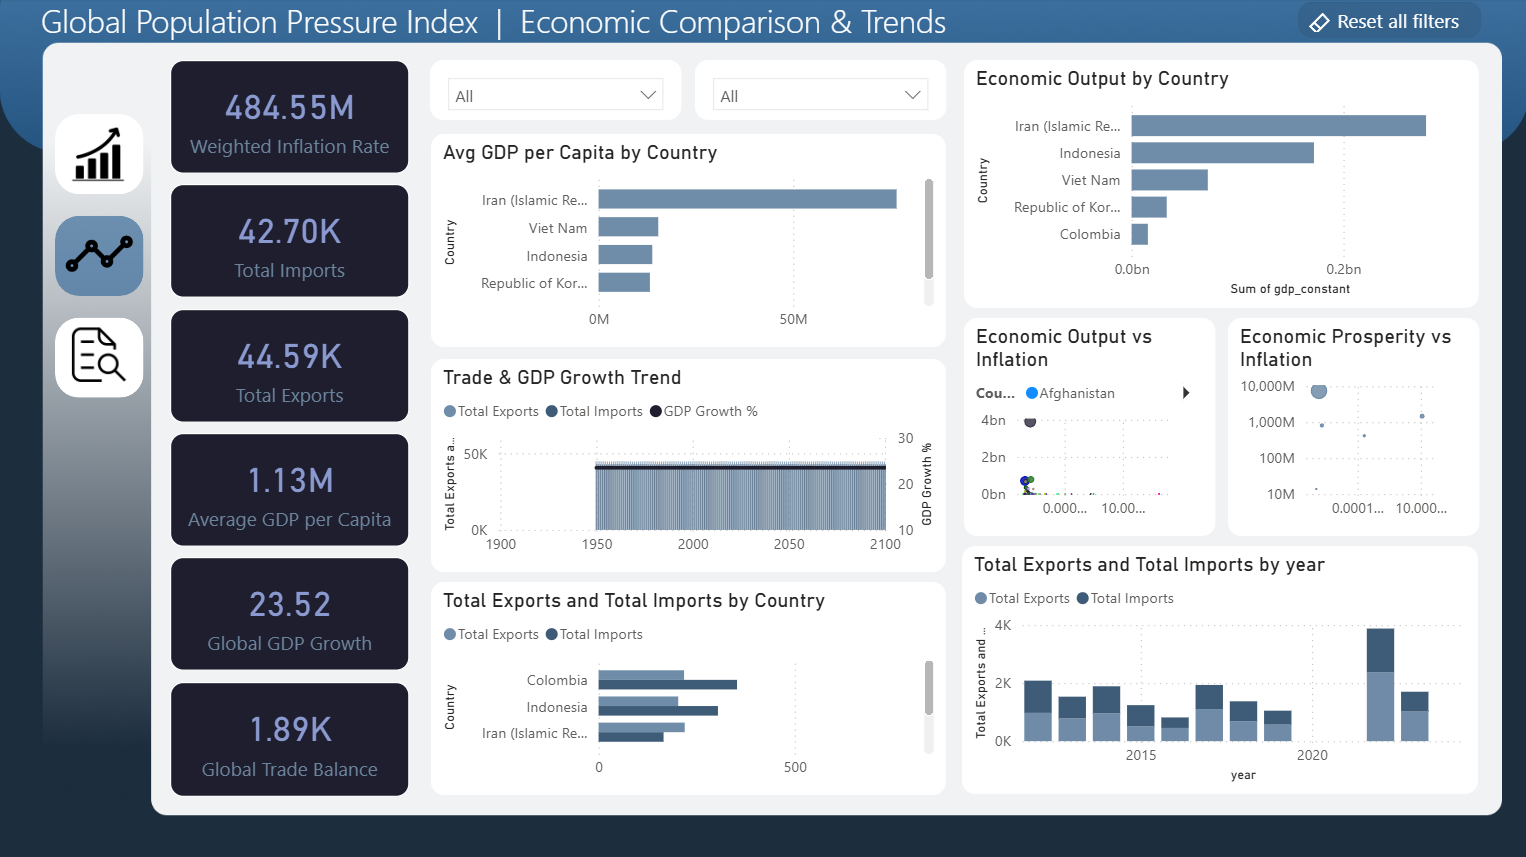

Layout of this report page (visuals, bound fields, positions):
{"tool":"powerbi","page":{"name":"Economic Comparison","canvas":[1280,720],"ordinal":1},"visuals":[{"type":"pageNavigator","box":[47.4,96.6,74.2,239.8],"z":0},{"type":"textbox","box":[36.2,0,795.3,44.9],"z":1000},{"type":"card","fields":{"Values":["Organizations_Groups.Global GDP Growth"]},"box":[144,467.2,200.1,94.9],"z":2000},{"type":"card","fields":{"Values":["Organizations_Groups.Average GDP per Capita"]},"box":[144,363.3,200,95],"z":3000},{"type":"card","fields":{"Values":["fact_economics_imf.Total Exports"]},"box":[144,259.4,200,95],"z":4000},{"type":"card","fields":{"Values":["fact_economics_imf.Total Imports"]},"box":[144,155.5,200,95],"z":5000},{"type":"card","fields":{"Values":["fact_economics_imf.Weighted Inflation %"]},"box":[144,51.8,200.1,94.9],"z":6000},{"type":"clusteredBarChart","title":"Economic Output by Country","fields":{"Category":["Master_Country.Country","fact_economics_imf.year"],"Y":["Sum(fact_economics_imf.gdp_constant)"]},"box":[806.5,51.8,430.4,207],"z":7000},{"type":"clusteredBarChart","fields":{"Category":["Master_Country.Country","fact_economics_imf.year"],"Y":["fact_economics_imf.Avg GDP per Capita"]},"box":[361.4,113.9,430,177.7],"z":8000},{"type":"clusteredBarChart","fields":{"Category":["Master_Country.Country","fact_economics_imf.year"],"Y":["fact_economics_imf.Total Exports","fact_economics_imf.Total Imports"]},"box":[361.4,488.2,430,177.7],"z":9000},{"type":"slicer","fields":{"Values":["Master_Country.Country"]},"box":[360.5,51.8,210,50],"z":10000},{"type":"image","box":[47.3,180,74.5,68.2],"z":11000},{"type":"image","box":[55.5,107.3,57.3,47.3],"z":12000},{"type":"image","box":[58.2,259.1,51.8,77.3],"z":13000},{"type":"lineStackedColumnComboChart","fields":{"Y":["fact_economics_imf.Total Exports","fact_economics_imf.Total Imports"],"Category":["fact_economics_imf.year"]},"box":[805.6,458,431.3,207],"z":14000},{"type":"scatterChart","title":"Economic Prosperity vs Inflation","fields":{"X":["fact_economics_imf.Weighted Inflation %"],"Y":["Sum(fact_economics_imf.gdp_per_capita_constant)"],"Size":["Sum(fact_economics_imf.gdp_constant)"],"Category":["Countries_Territories.Continent"]},"box":[1027.3,267.4,209.6,182],"z":15000},{"type":"lineClusteredColumnComboChart","title":"Trade & GDP Growth Trend","fields":{"Category":["dim_year.year"],"Y":["fact_economics_imf.Total Exports","fact_economics_imf.Total Imports"],"Y2":["fact_economics_imf.GDP Growth %"]},"box":[361.4,301.9,430,177.7],"z":16000},{"type":"scatterChart","title":"Economic Output vs Inflation","fields":{"X":["fact_economics_imf.Weighted Inflation %"],"Y":["Sum(fact_economics_imf.gdp_per_capita_constant)"],"Size":["Sum(fact_economics_imf.gdp_constant)"],"Category":["Countries_Territories.Continent"],"Series":["Master_Country.Country"]},"box":[806.5,267.4,209.6,182],"z":17000},{"type":"card","fields":{"Values":["Organizations_Groups.Trade Balance"]},"box":[144,571,200.1,95.7],"z":18000},{"type":"actionButton","box":[1086.2,3.3,152.9,30.4],"z":19000},{"type":"slicer","fields":{"Values":["Countries_Territories.Continent"]},"box":[582.2,51.8,209.6,50],"z":20000}]}

Visuals, with their boxes in screenshot pixels (x1, y1, x2, y2), scaled from the page's 1280x720 canvas onto the 1526x857 screenshot:
pageNavigator: [x1=57, y1=115, x2=145, y2=400]
textbox: [x1=43, y1=0, x2=991, y2=53]
card - Organizations_Groups.Global GDP Growth: [x1=172, y1=556, x2=410, y2=669]
card - Organizations_Groups.Average GDP per Capita: [x1=172, y1=432, x2=410, y2=546]
card - fact_economics_imf.Total Exports: [x1=172, y1=309, x2=410, y2=422]
card - fact_economics_imf.Total Imports: [x1=172, y1=185, x2=410, y2=298]
card - fact_economics_imf.Weighted Inflation %: [x1=172, y1=62, x2=410, y2=175]
"Economic Output by Country" clusteredBarChart: [x1=961, y1=62, x2=1475, y2=308]
clusteredBarChart - Master_Country.Country x fact_economics_imf.year: [x1=431, y1=136, x2=943, y2=347]
clusteredBarChart - Master_Country.Country x fact_economics_imf.year: [x1=431, y1=581, x2=943, y2=793]
slicer - Master_Country.Country: [x1=430, y1=62, x2=680, y2=121]
image: [x1=56, y1=214, x2=145, y2=295]
image: [x1=66, y1=128, x2=134, y2=184]
image: [x1=69, y1=308, x2=131, y2=400]
lineStackedColumnComboChart - fact_economics_imf.Total Exports x fact_economics_imf.Total Imports: [x1=960, y1=545, x2=1475, y2=792]
"Economic Prosperity vs Inflation" scatterChart: [x1=1225, y1=318, x2=1475, y2=535]
"Trade & GDP Growth Trend" lineClusteredColumnComboChart: [x1=431, y1=359, x2=943, y2=571]
"Economic Output vs Inflation" scatterChart: [x1=961, y1=318, x2=1211, y2=535]
card - Organizations_Groups.Trade Balance: [x1=172, y1=680, x2=410, y2=794]
actionButton: [x1=1295, y1=4, x2=1477, y2=40]
slicer - Countries_Territories.Continent: [x1=694, y1=62, x2=944, y2=121]
